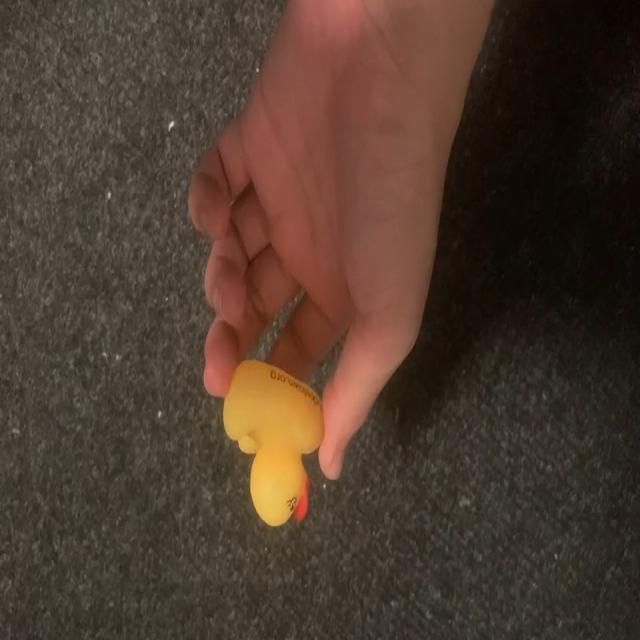rubber-duck: (222, 359, 321, 524)
